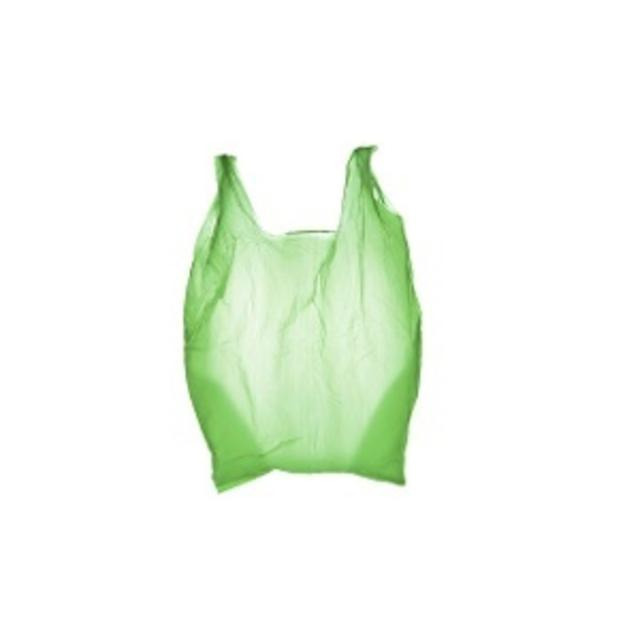Bolsa-de-nilon: (192, 145, 430, 498)
